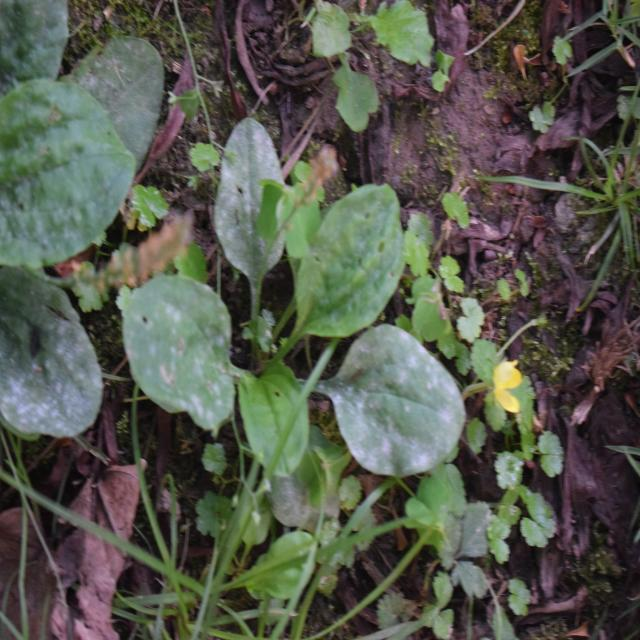plantain: (150, 166, 462, 482)
